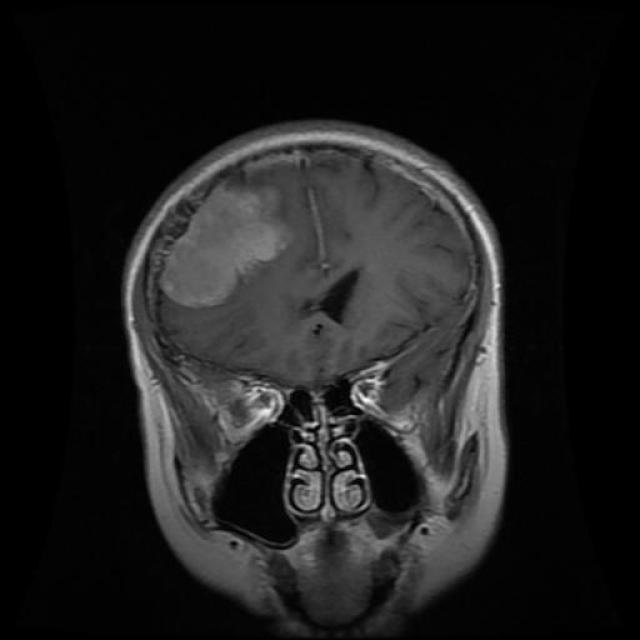meningioma: (159, 190, 292, 310)
